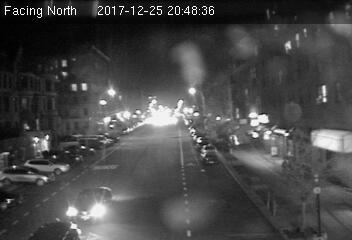car: (65, 185, 112, 222), (199, 150, 218, 165)
